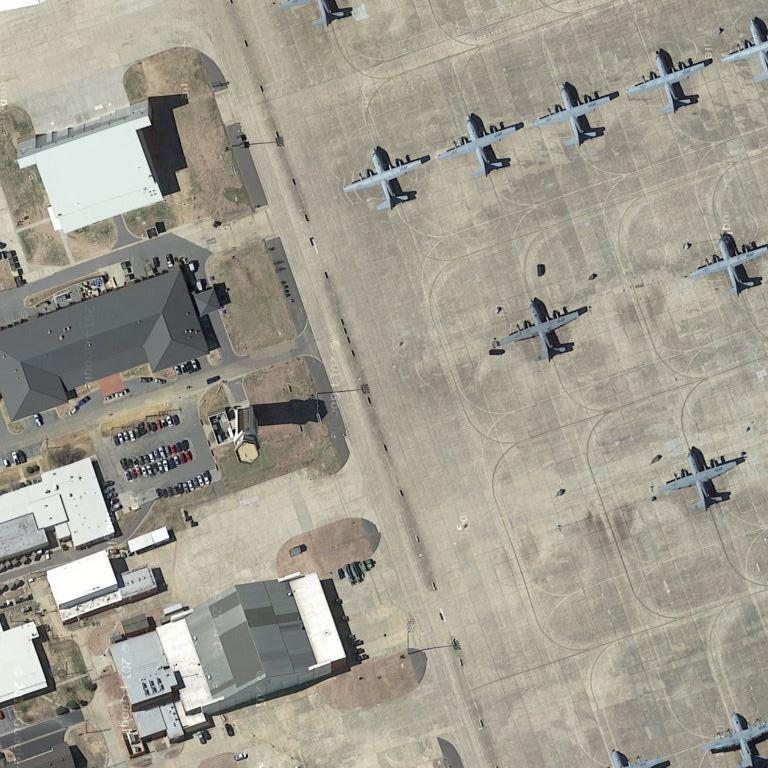C-130: (343, 141, 431, 219), (439, 109, 526, 184), (502, 293, 589, 368), (624, 47, 713, 119), (532, 78, 620, 150), (662, 441, 746, 515), (686, 231, 766, 300), (704, 706, 766, 768)
